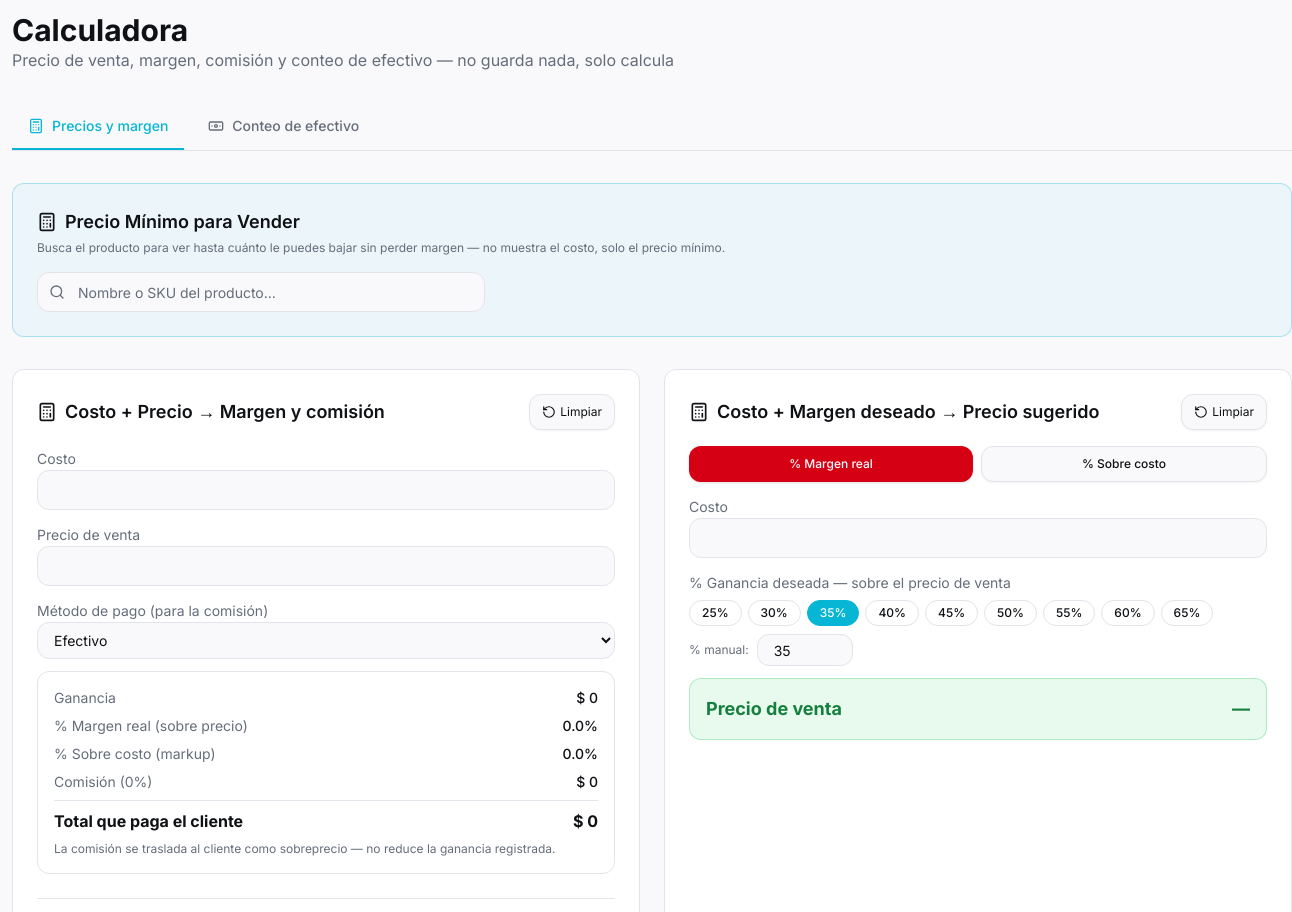
Calculadora — Conteo de efectivo › conserva el conteo al cambiar de pestaña y volver
Click the tab "Conteo de efectivo" at (284, 127), box [192,104,375,150]
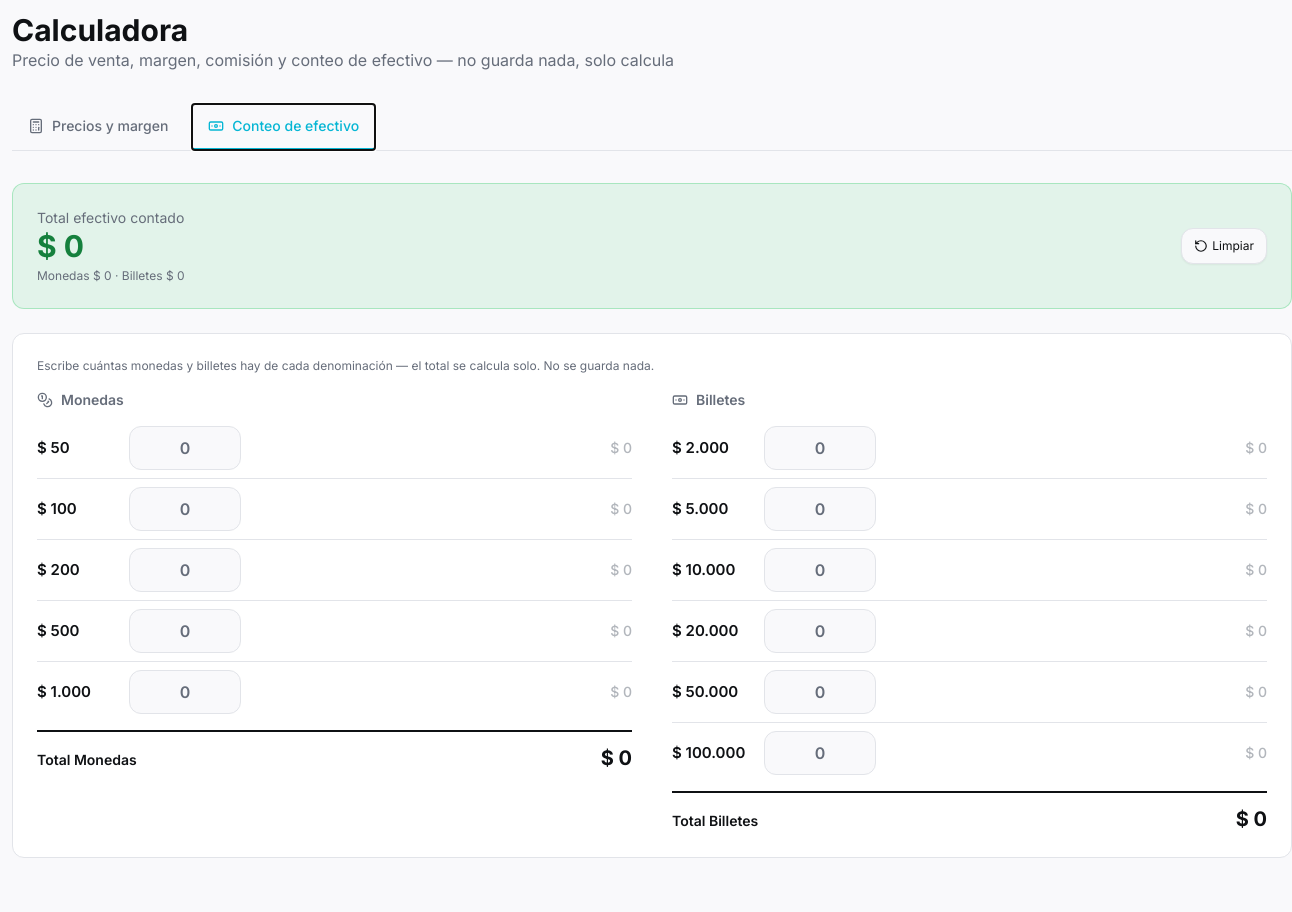
Type "5" into the field labelled "$ 20.000" at (820, 631), box [764,609,876,653]
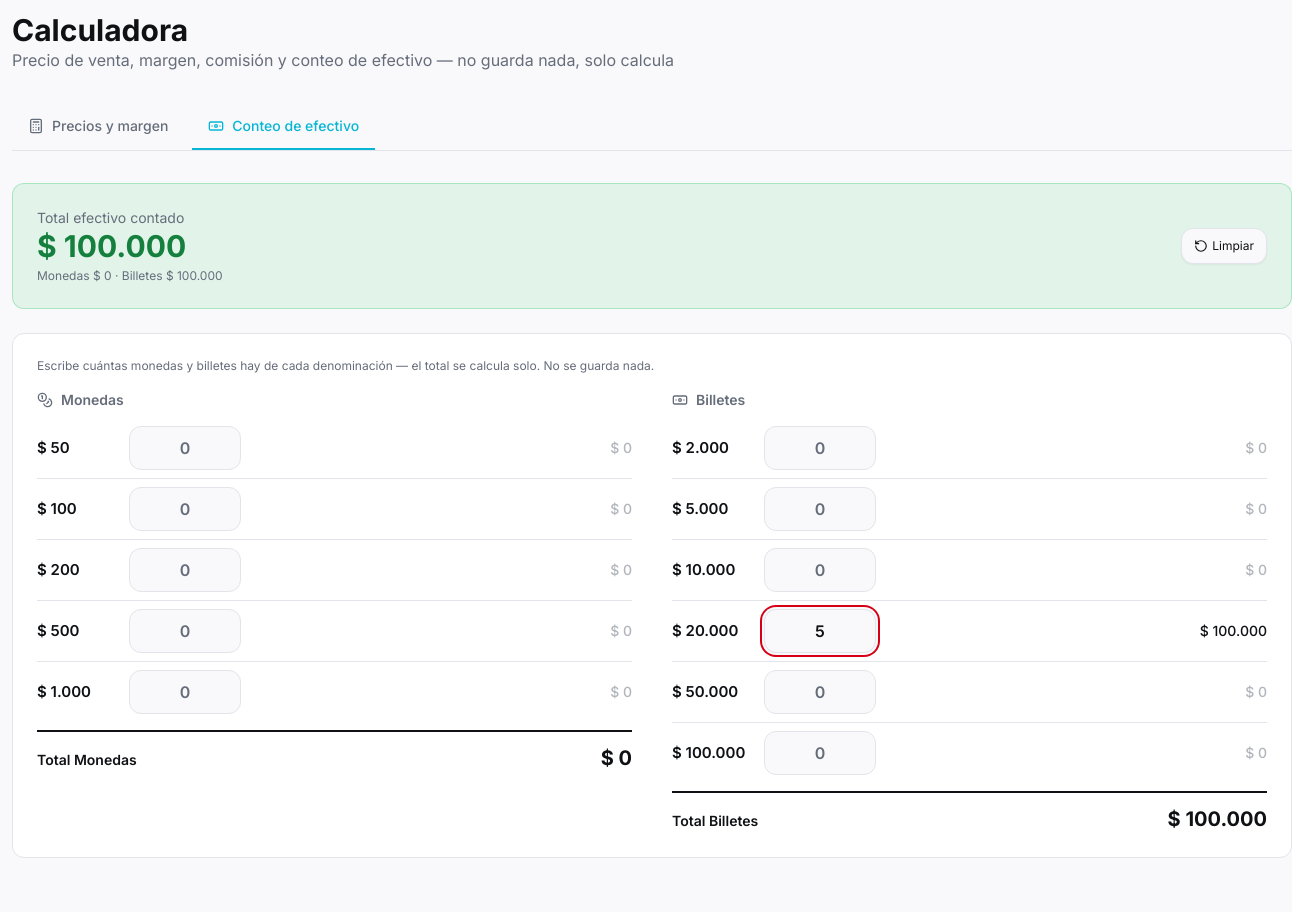
Click the tab "Precios y margen" at (98, 127), box [12,104,184,150]
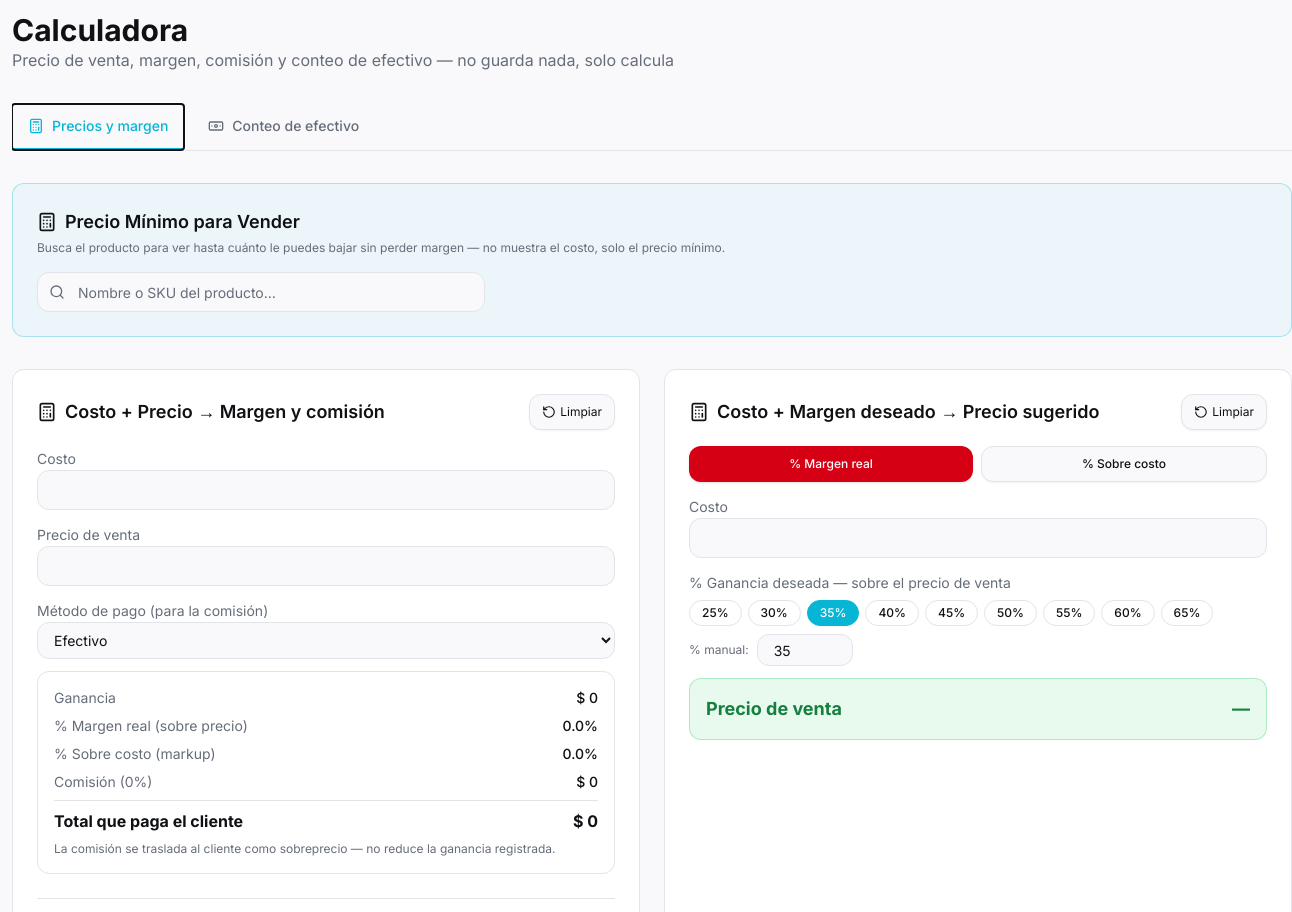
Click the tab "Conteo de efectivo" at (284, 127), box [192,104,375,150]
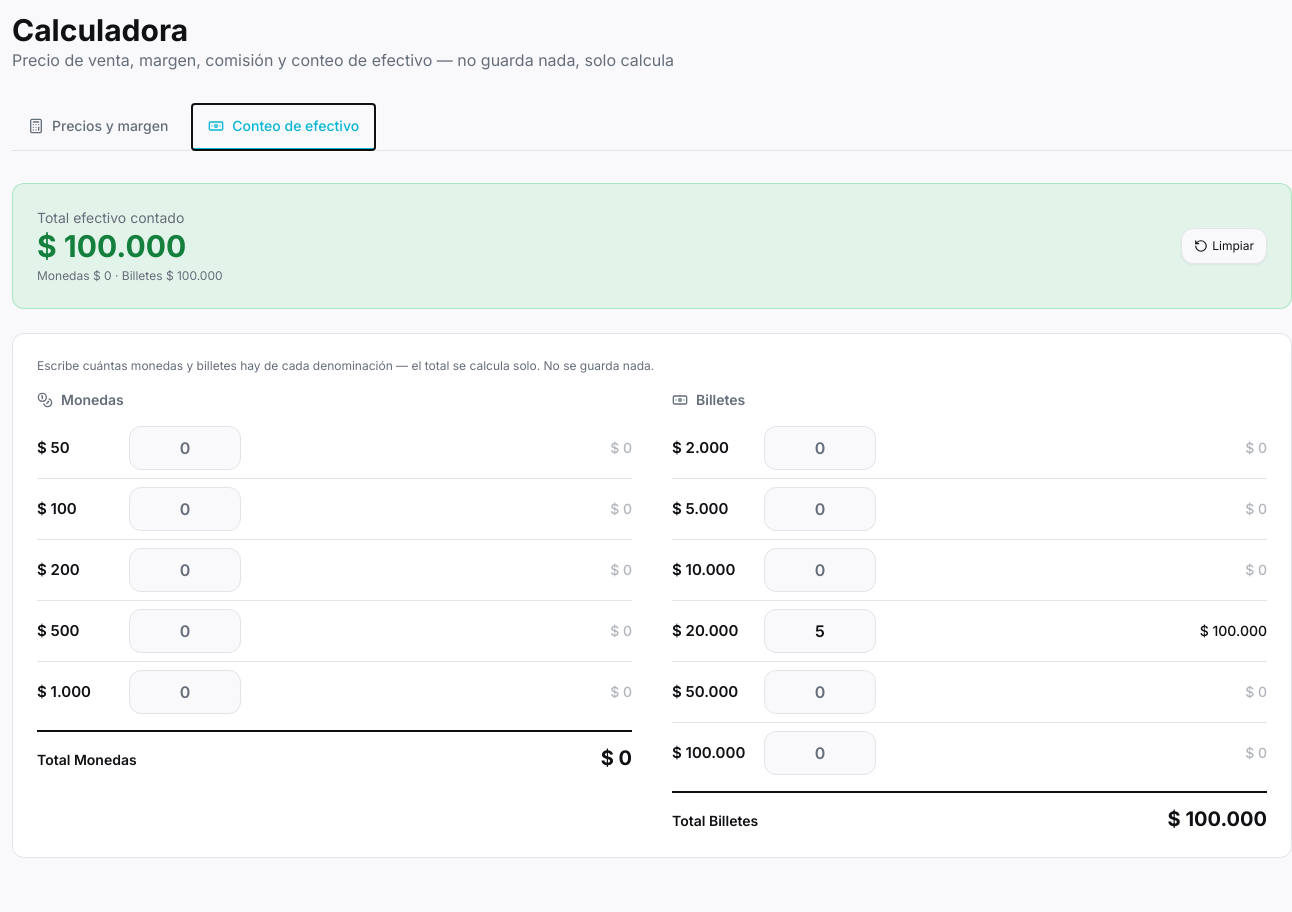
Now the text with test id "total-efectivo" shows "100.000", box [37,228,186,264]
